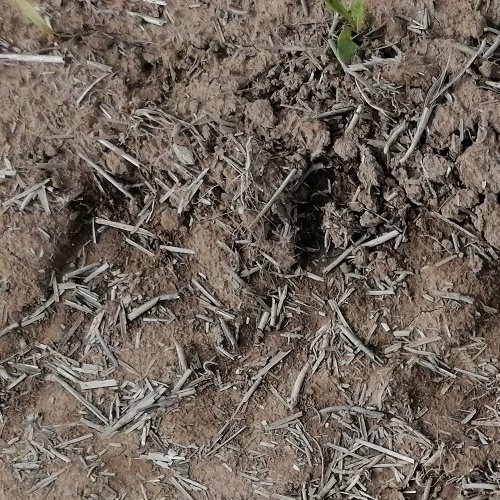beet: (325, 0, 366, 61)
